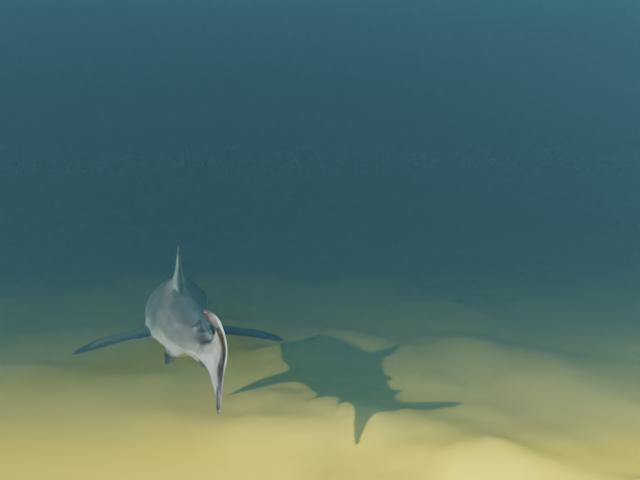Carribean Shark.001: (72, 245, 283, 414)
